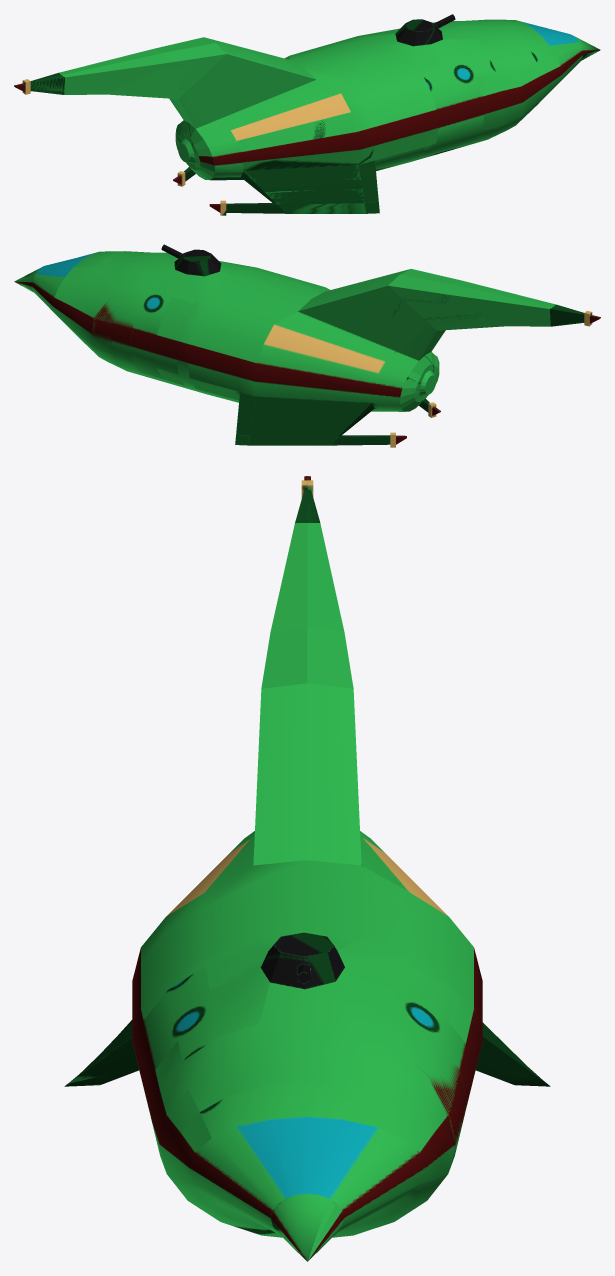
File: pexpress.fbx
The picture shows the model from 3 angles, top to bottom: view 1: azimuth 30°, elevation 25°; view 2: azimuth 150°, elevation 25°; view 3: azimuth 270°, elevation 25°; orthographic projection. The views are drawn at different scales.
Parts seen in each view (by area): view 1: pCylinder10; view 2: pCylinder10; view 3: pCylinder10.
Part boxes in pixels (box(x1,y1,x2,y2)): pCylinder10: box(14, 14, 600, 215); pCylinder10: box(14, 244, 600, 447); pCylinder10: box(64, 476, 550, 1261).
Bounding box in the file's own units: 7.73 × 2.04 × 2.78.
